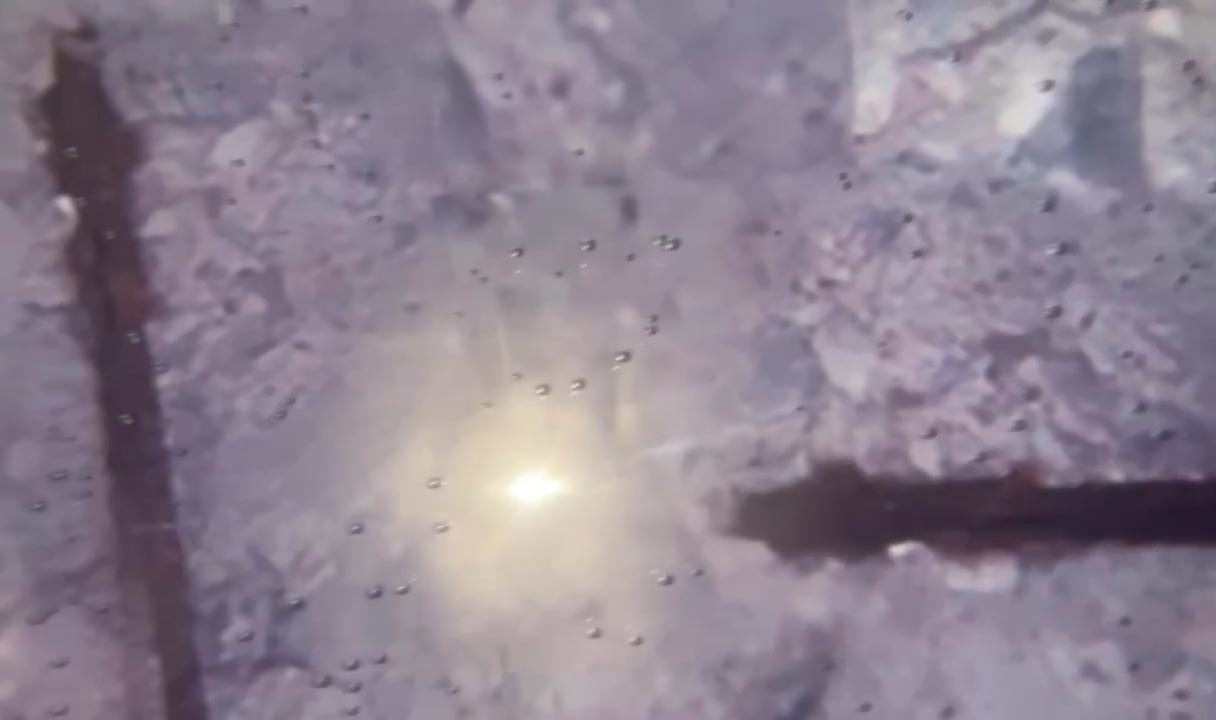Exposed reinforcement: (36, 26, 214, 720), (718, 461, 1216, 561)
